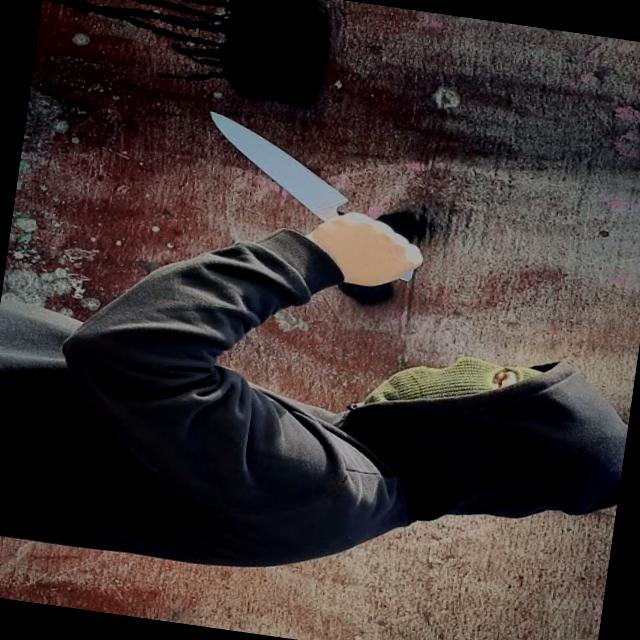knife: (186, 101, 442, 264)
